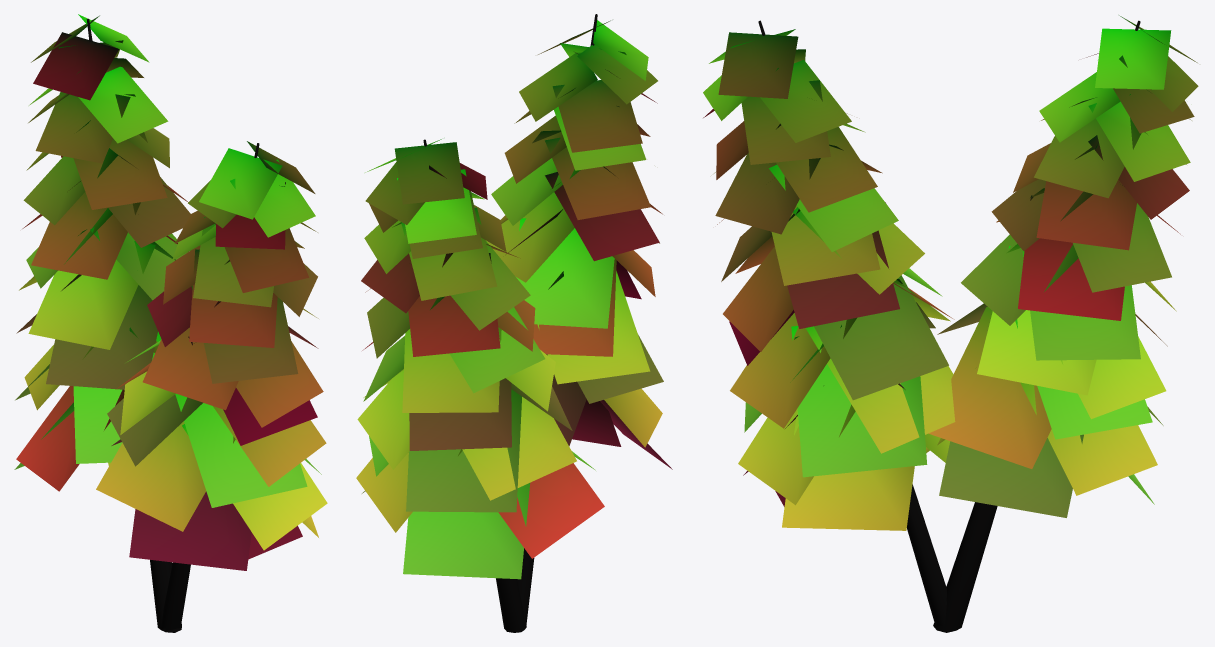
Rendered from Tree_11.fbx.
The picture shows the model from 3 angles, left to right: view 1: azimuth 30°, elevation 25°; view 2: azimuth 150°, elevation 25°; view 3: azimuth 270°, elevation 25°; orthographic projection. The views are drawn at different scales.
Parts seen in each view (by area): view 1: Tree_11; view 2: Tree_11; view 3: Tree_11.
Boxes of the visible parts, bbox=[...] form: Tree_11: bbox=[14, 14, 327, 632]; Tree_11: bbox=[356, 14, 672, 632]; Tree_11: bbox=[703, 15, 1198, 632].
Size of the model in its own units: 714 by 1773 by 1318.
